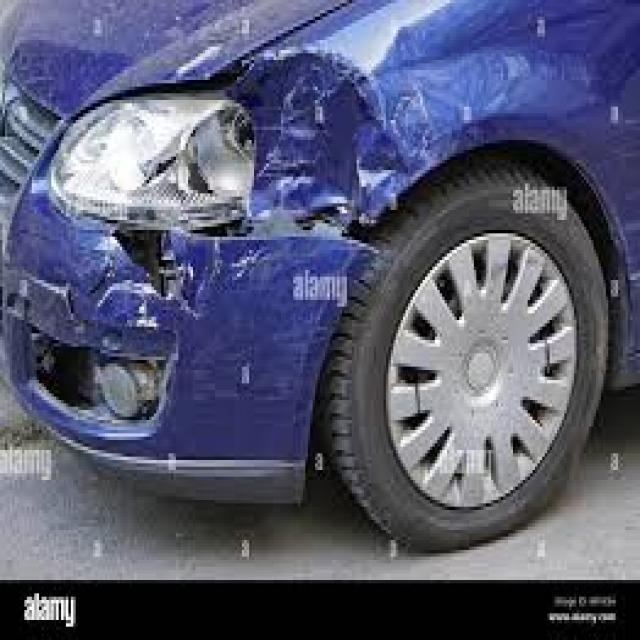damaged-head-light: (49, 91, 254, 222)
